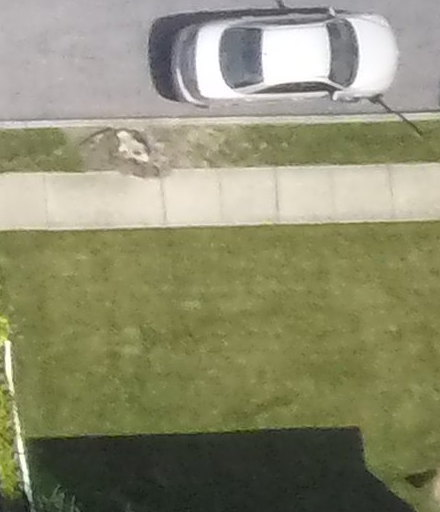car: (165, 1, 404, 112)
